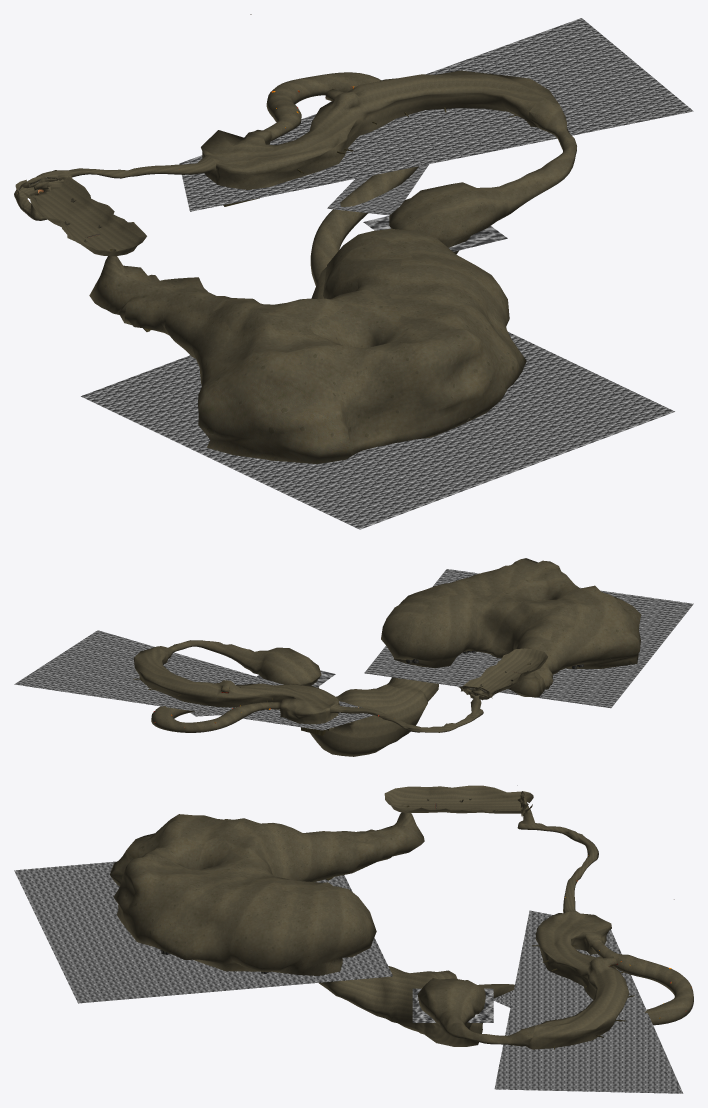
3 renders of one model, top to bottom at view 1: azimuth 30°, elevation 25°; view 2: azimuth 150°, elevation 25°; view 3: azimuth 270°, elevation 25°, orthographic. The views are drawn at different scales.
Parts seen in each view (by area): view 1: RoadCausticO, WaterTransparentO, WaterO.003, RoadO.003, RoadCrystalO; view 2: RoadCausticO, WaterO.003, WaterTransparentO, RoadO.003, RoadCrystalO; view 3: RoadCausticO, WaterTransparentO, WaterO.003, RoadO.003, RoadCrystalO.
Part boxes in pixels (x1,y1,x2,y2): RoadCausticO: (89, 99, 576, 463); WaterTransparentO: (81, 164, 674, 529); WaterO.003: (29, 18, 693, 211); RoadO.003: (15, 70, 559, 420); RoadCrystalO: (14, 72, 381, 220); RoadCausticO: (152, 558, 641, 756); WaterO.003: (14, 630, 485, 730); WaterTransparentO: (190, 569, 693, 716); RoadO.003: (134, 647, 547, 730); RoadCrystalO: (151, 702, 483, 732); RoadCausticO: (110, 814, 535, 1046); WaterTransparentO: (14, 861, 513, 1022); WaterO.003: (494, 785, 683, 1093); RoadO.003: (127, 785, 629, 1049); RoadCrystalO: (517, 820, 693, 1025).
Bounding box in the file's own units: 133343 × 37460 × 140322.
Materials: 13 (13 with a texture image).
